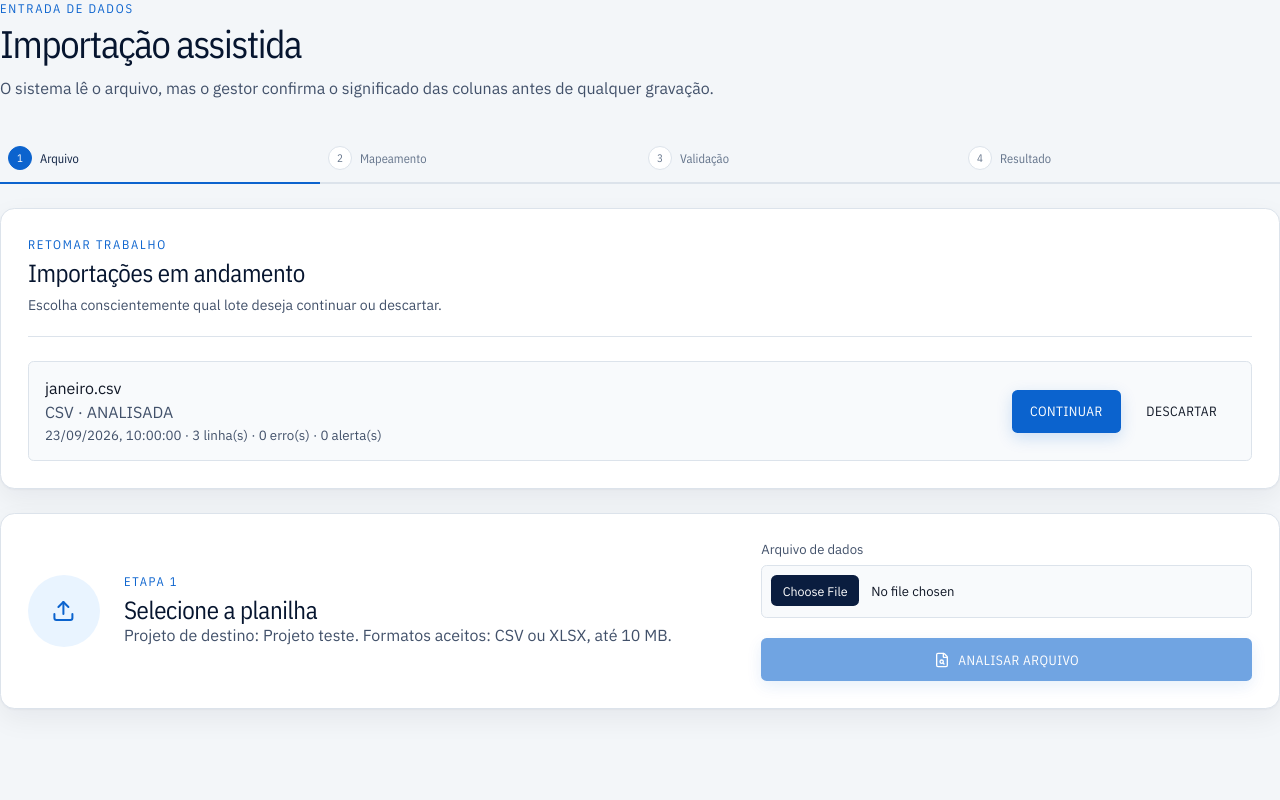
Test: retomada visual da importação › mantém a página utilizável quando a inspeção retorna 409
Click the button "CONTINUAR".
click(1066, 411)  # box [1012,390,1121,433]
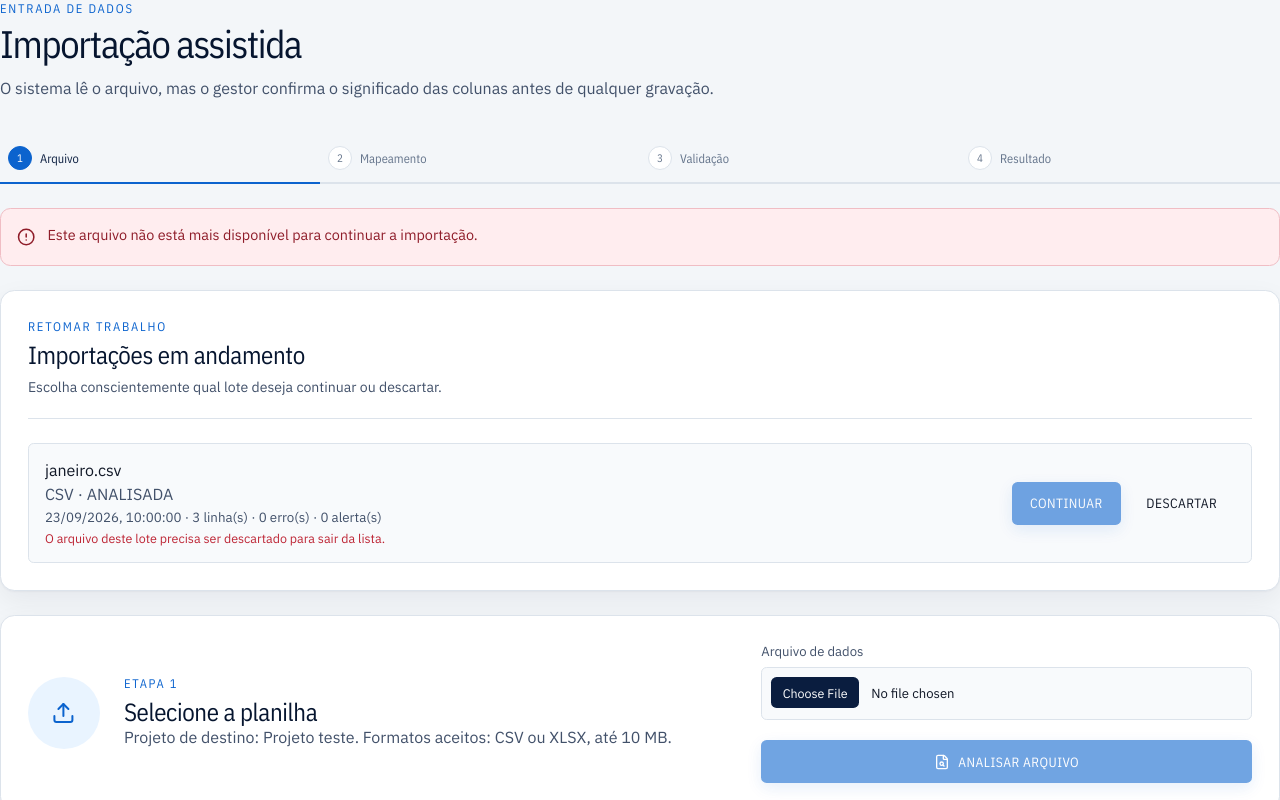
Expected: the button "DESCARTAR" is shown, [1128,482,1235,525]
Now the text "Este arquivo não está mais disponível para continuar a importação." is shown, box [47,225,478,244]
